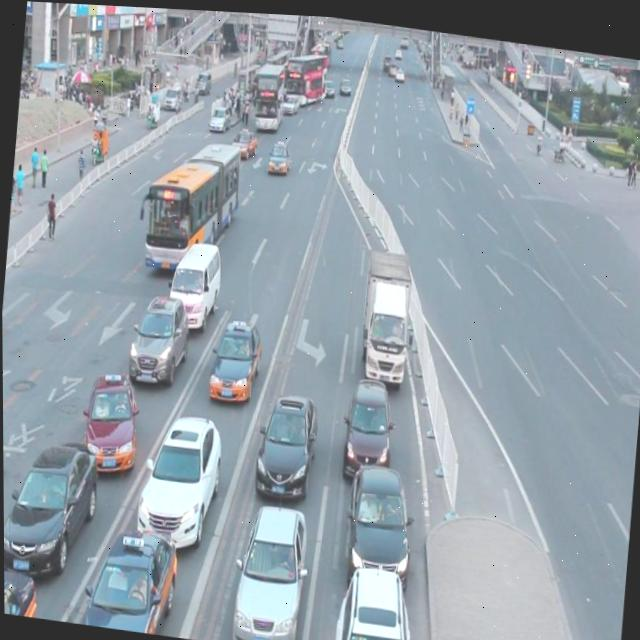bus: (356, 241, 414, 380)
car: (2, 429, 99, 582), (132, 403, 225, 553), (73, 515, 180, 635), (227, 492, 310, 640), (340, 452, 416, 580), (329, 550, 420, 640), (251, 382, 319, 499), (80, 366, 142, 475), (125, 287, 192, 387), (340, 368, 397, 482), (207, 311, 264, 402), (3, 562, 39, 617), (265, 136, 290, 173)
truck: (164, 231, 224, 332)
van: (141, 130, 243, 275)
